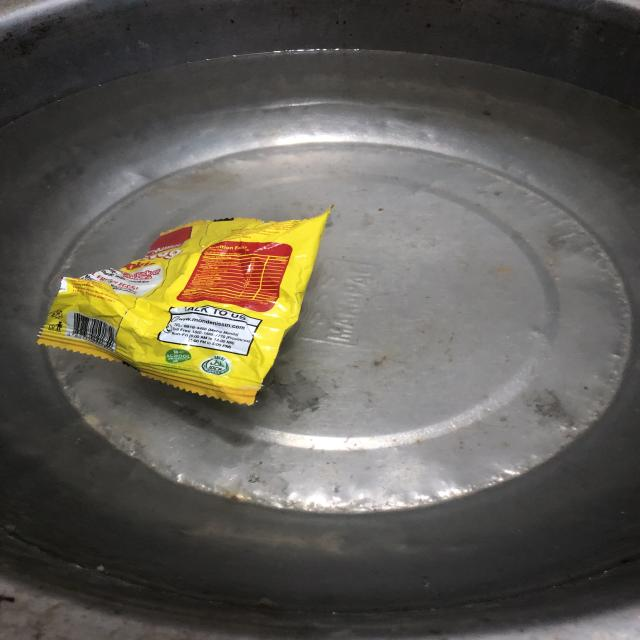Plastic Wrapper: (0, 176, 387, 428)
